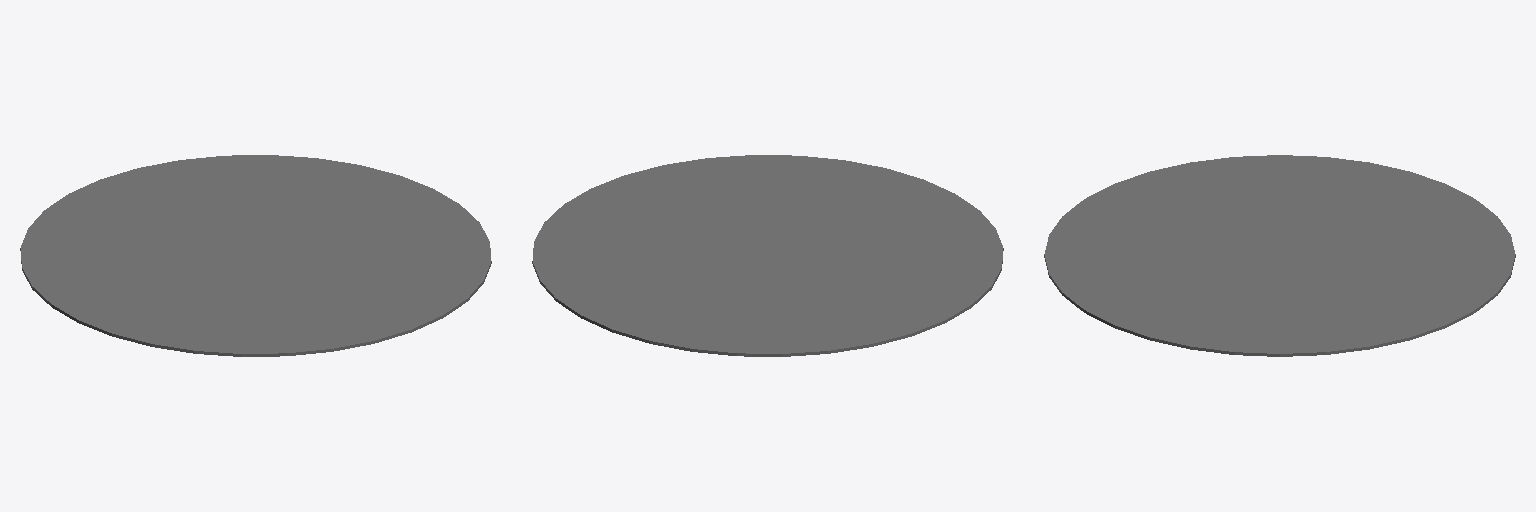
URDF robot description (floor):
<?xml version="1.0"?>
<robot name="floor">
  <link name="floor">
    <collision>
      <geometry>
        <cylinder length="0.01" radius="0.707"/>
      </geometry>
      <origin rpy="0 0 0" xyz="0 0 0"/>
    </collision>
    <visual>
      <geometry>
        <cylinder length="0.01" radius="0.707"/>
      </geometry>
      <origin rpy="0 0 0" xyz="0 0 0"/>
      <material name="grey">
        <color rgba="0.5 0.5 0.5 1.0"/>
      </material>
    </visual>
  </link>
</robot>

--- What the picture shows (computed from the rendered views, not written in the file) ---
3 views of the same robot in one strip: view 1: azimuth 30°, elevation 25°; view 2: azimuth 150°, elevation 25°; view 3: azimuth 270°, elevation 25° (orthographic).
Robot: floor — 1 links, 0 joints (none); root link floor; default pose: all joints at 0.
Visible links, largest first — view 1: floor; view 2: floor; view 3: floor.
Link boxes in pixels (x1,y1,x2,y2): floor: (20, 155, 491, 356); floor: (532, 155, 1003, 356); floor: (1044, 155, 1515, 356).
Bounding box of the posed robot: 1.41 × 1.41 × 0.01 m (x, y, z).
Geometry: primitives only (box / cylinder / sphere), no mesh files.